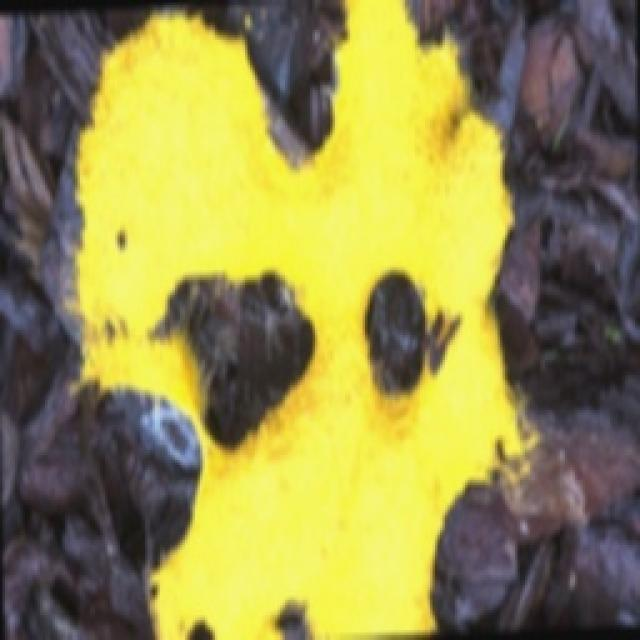Dog_vomit_slime_mold: (29, 0, 576, 640)
